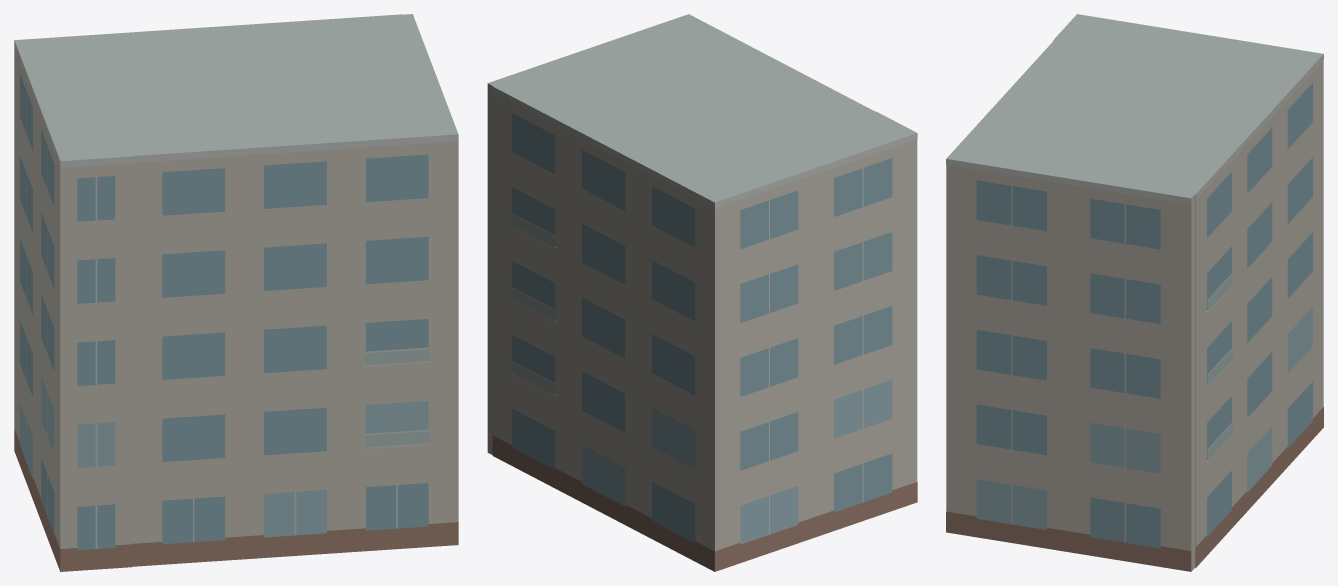
Rendered from survey-upis-32877236.glb.
3 renders of one model, left to right at view 1: azimuth 30°, elevation 25°; view 2: azimuth 150°, elevation 25°; view 3: azimuth 270°, elevation 25°, orthographic. The views are drawn at different scales.
Parts seen in each view (by area): view 1: survey-upis-32877236.tmp; view 2: survey-upis-32877236.tmp; view 3: survey-upis-32877236.tmp.
Boxes of the visible parts, bbox=[...] form: survey-upis-32877236.tmp: bbox=[14, 14, 458, 571]; survey-upis-32877236.tmp: bbox=[487, 14, 917, 571]; survey-upis-32877236.tmp: bbox=[946, 14, 1323, 571].
Bounding box in the file's own units: 15.67 × 14.8 × 13.57.
